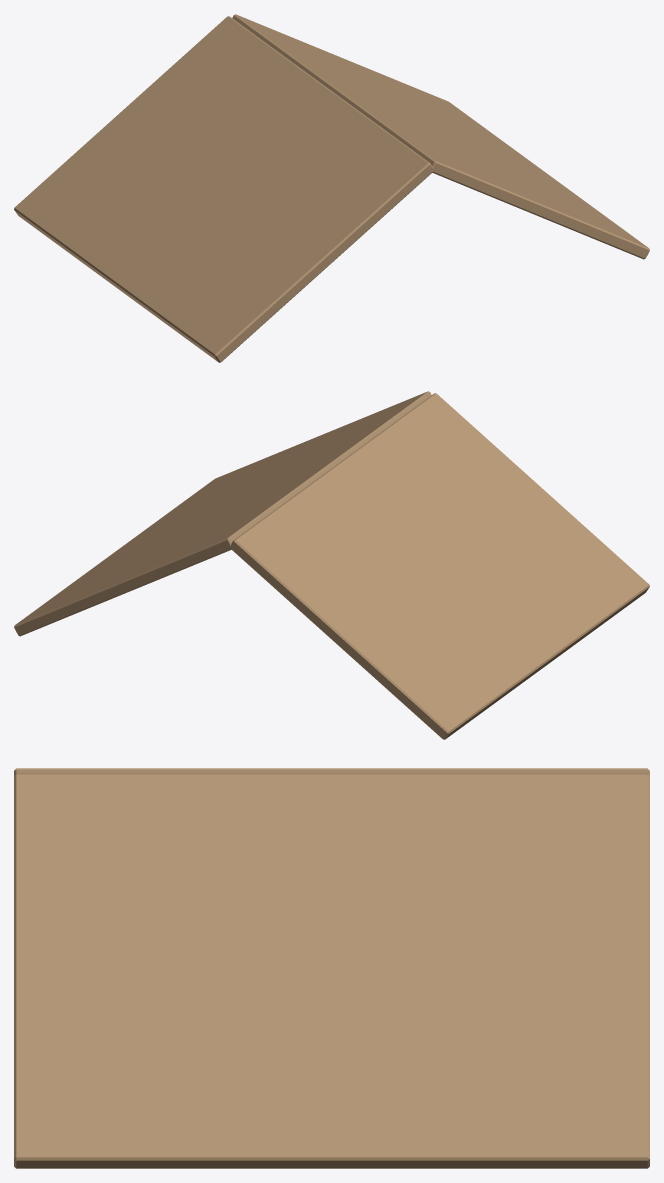
The model's file is SM_ExampleHouse_Roof.fbx.
3 renders of one model, top to bottom at view 1: azimuth 30°, elevation 25°; view 2: azimuth 150°, elevation 25°; view 3: azimuth 270°, elevation 25°, orthographic. The views are drawn at different scales.
Visible parts, largest first — view 1: SM_ExampleHouse_Roof; view 2: SM_ExampleHouse_Roof; view 3: SM_ExampleHouse_Roof.
Boxes of the visible parts, bbox=[...] form: SM_ExampleHouse_Roof: bbox=[14, 14, 649, 362]; SM_ExampleHouse_Roof: bbox=[14, 391, 649, 739]; SM_ExampleHouse_Roof: bbox=[14, 768, 649, 1168].
Size of the model in its own units: 4.85 by 3.9 by 1.59.
